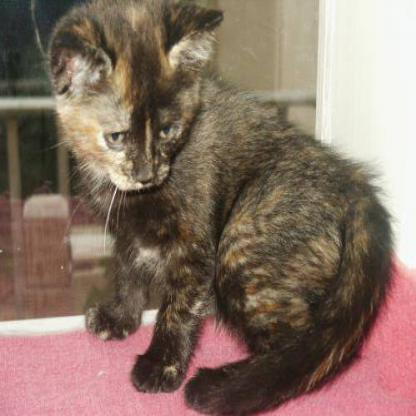cat: (31, 2, 312, 284)
